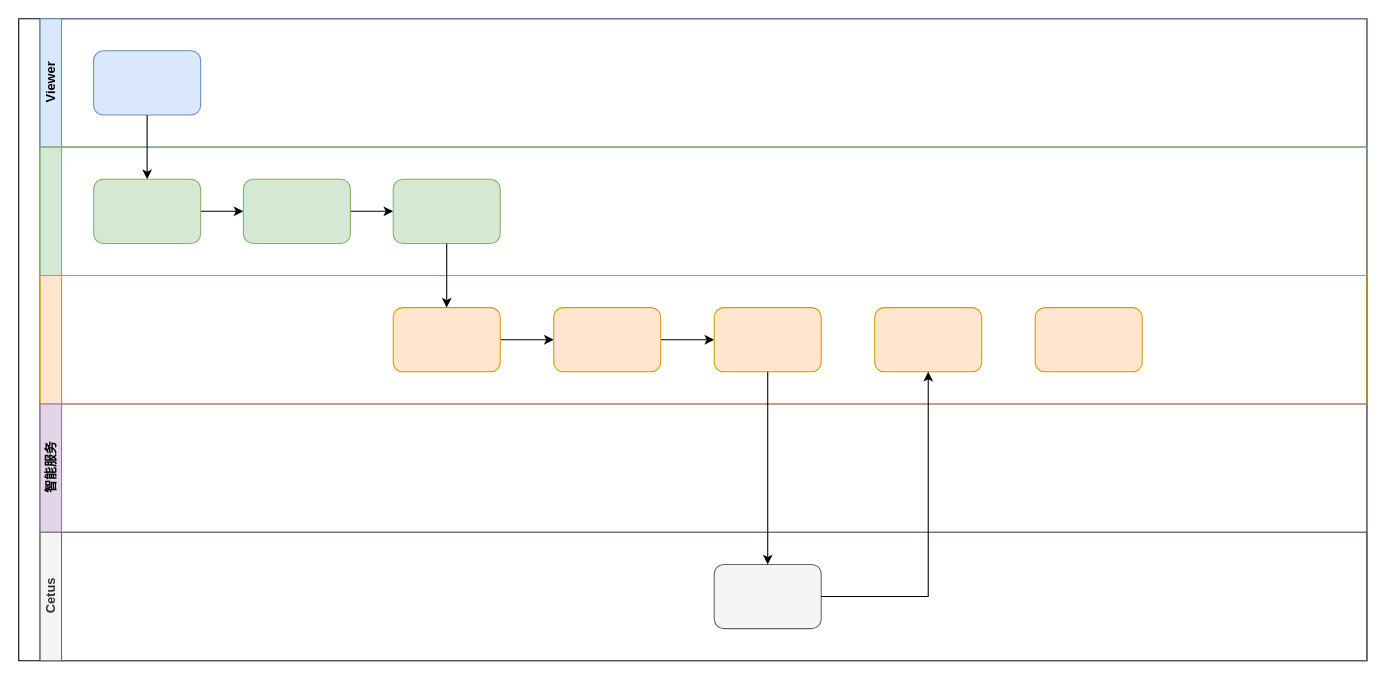
The diagram is 1385 pixels wide and 678 high, and some of its shapes have lost their labels. The box of each missing label's shape, as (x1, y1, x2, y2) in pixels:
Exchange: (39, 274, 1367, 404)
千县后端: (39, 146, 1367, 276)
